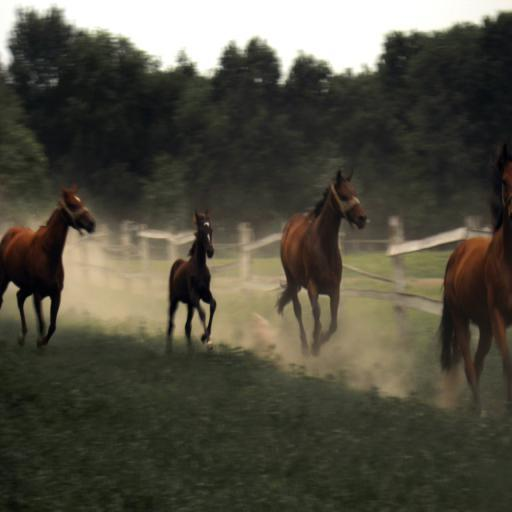Horse: (437, 142, 511, 416), (272, 164, 370, 356), (0, 187, 96, 350), (168, 206, 216, 350)
